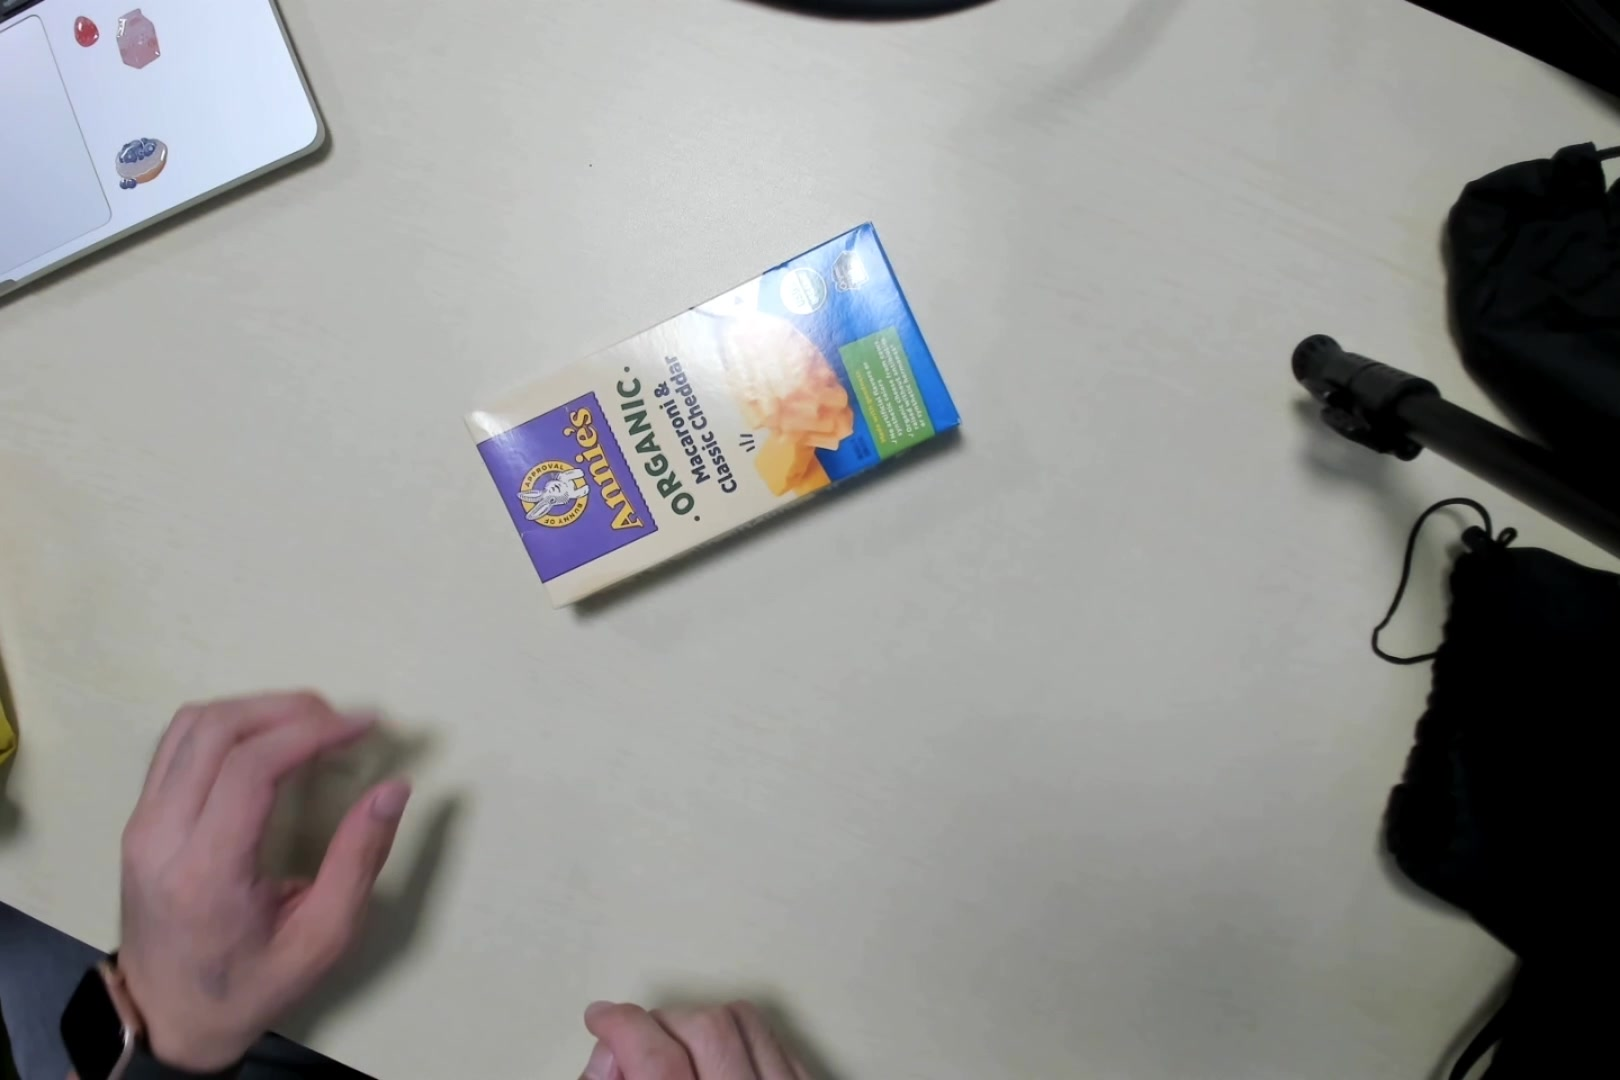InstantMeals_200-299g_NonHalal_NonHealthy: (457, 229, 967, 616)
